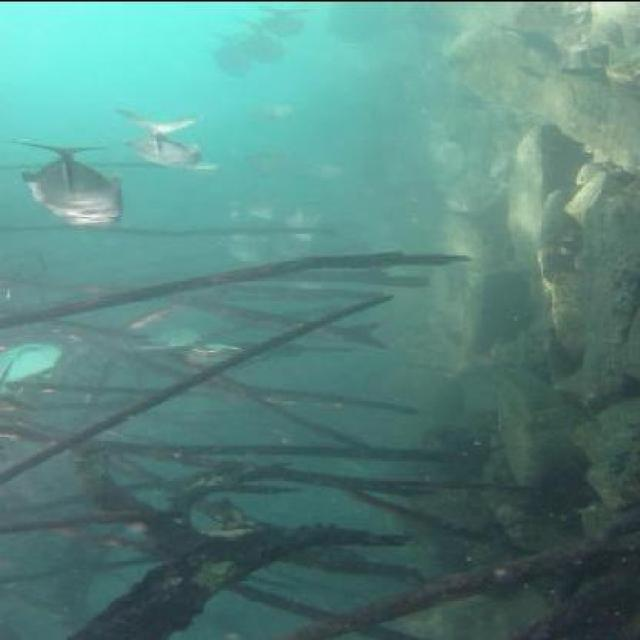Caranx_sexfasciatus_juvenile: (5, 140, 129, 231), (111, 103, 227, 174), (117, 312, 215, 361), (0, 333, 72, 399), (272, 198, 341, 252), (198, 27, 260, 78), (210, 225, 282, 266), (176, 332, 250, 371), (230, 20, 290, 68), (249, 1, 322, 38), (237, 146, 306, 185), (230, 186, 293, 226), (303, 150, 372, 178), (248, 100, 314, 128)
